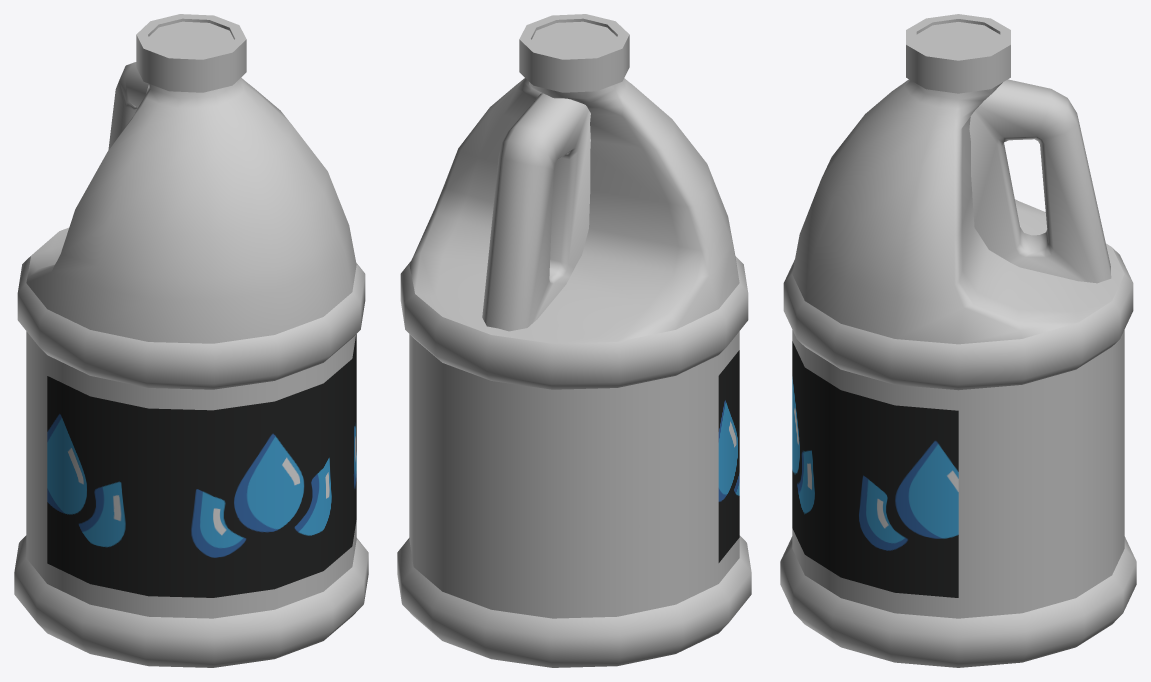
Rendered from PlasticBottle_03.fbx.
3 views of the same model, side by side, from view 1: azimuth 30°, elevation 25°; view 2: azimuth 150°, elevation 25°; view 3: azimuth 270°, elevation 25° (orthographic).
Visible parts, largest first — view 1: PlasticBottle_03, PlasticBottle_03_Cap; view 2: PlasticBottle_03, PlasticBottle_03_Cap; view 3: PlasticBottle_03, PlasticBottle_03_Cap.
Boxes of the visible parts, x1,y1,x2,y2 form: PlasticBottle_03: [14, 62, 368, 667]; PlasticBottle_03_Cap: [136, 14, 246, 92]; PlasticBottle_03: [397, 78, 751, 667]; PlasticBottle_03_Cap: [519, 14, 629, 92]; PlasticBottle_03: [780, 79, 1136, 667]; PlasticBottle_03_Cap: [906, 14, 1010, 93].
Size of the model in its own units: 0.3329 by 0.5771 by 0.3329.
